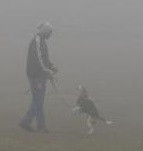person: (16, 21, 58, 135)
